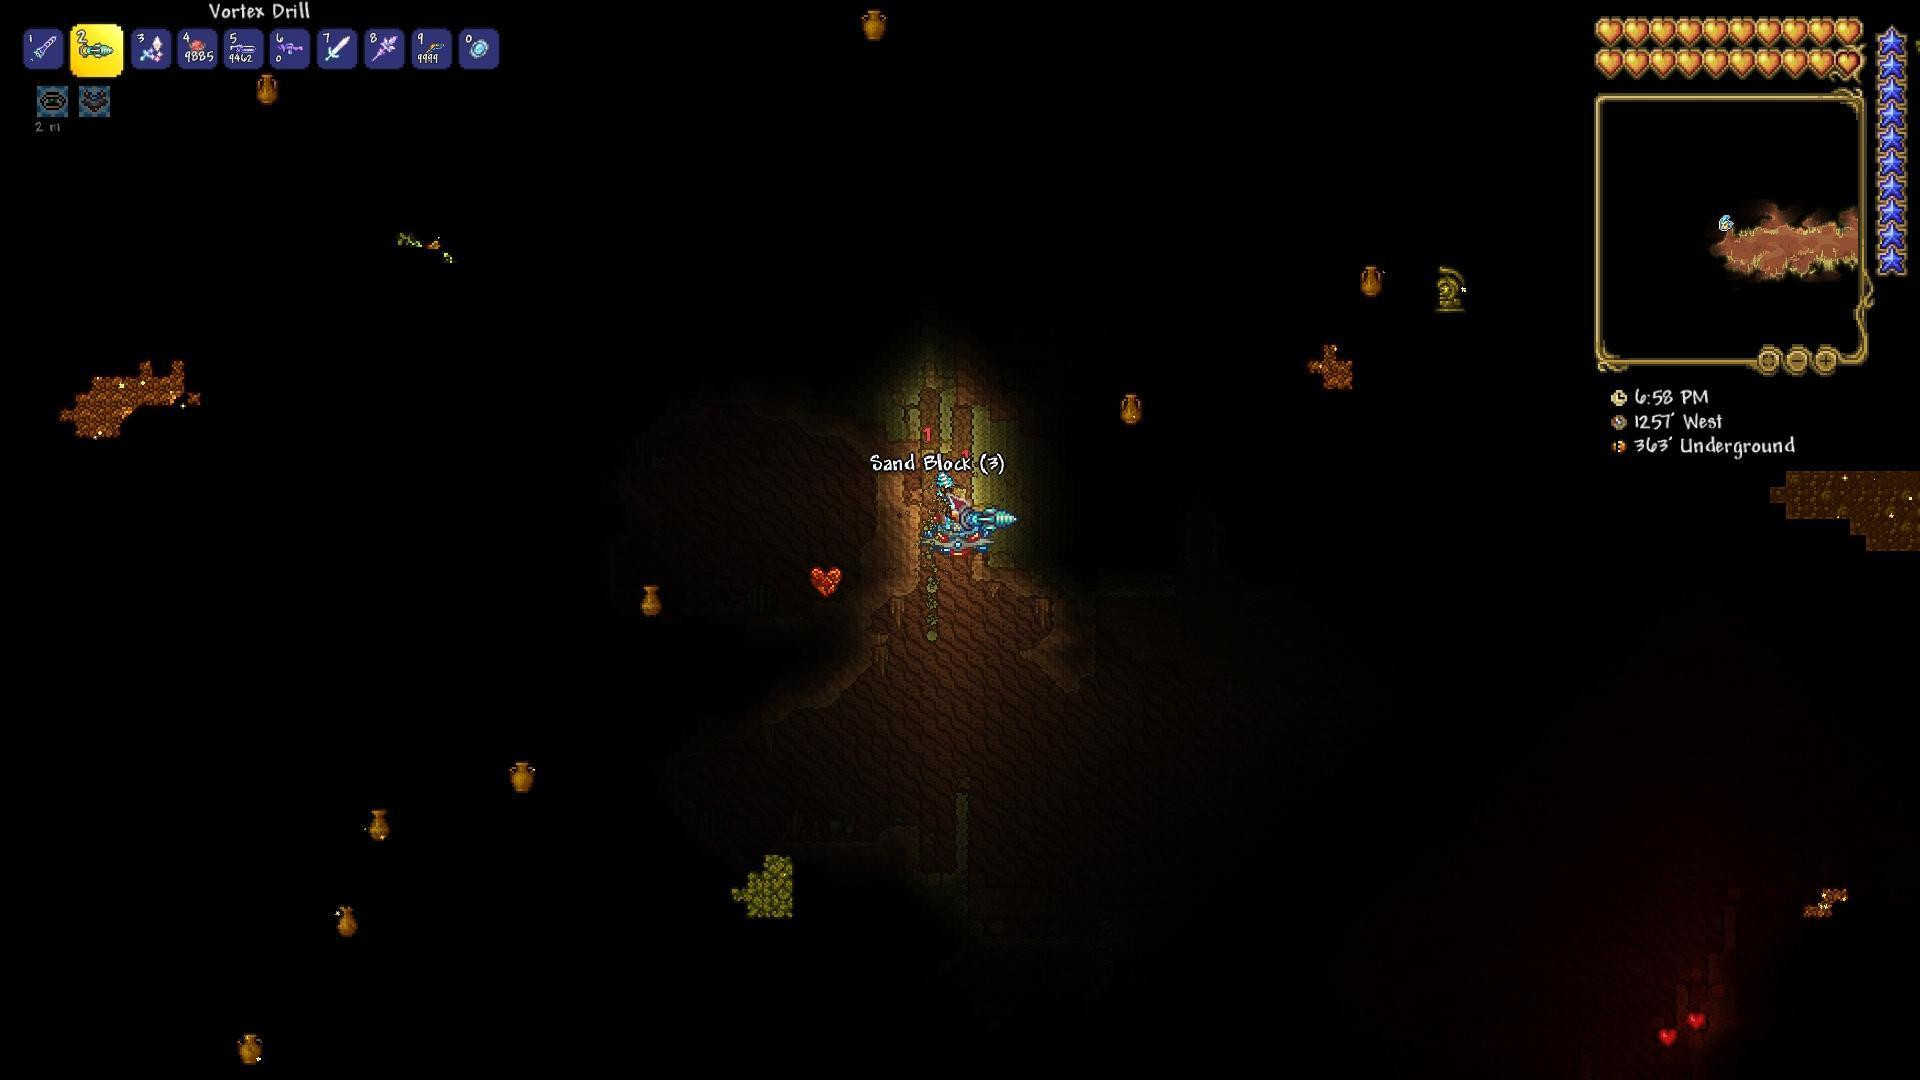lifeC: (804, 559, 845, 604)
pot: (1109, 386, 1149, 429), (509, 756, 542, 794), (371, 794, 396, 844), (1357, 260, 1389, 299), (336, 902, 359, 938)
